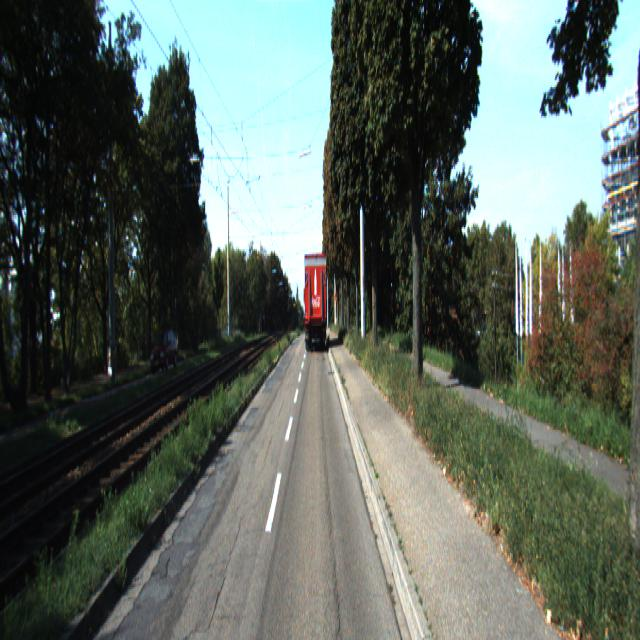Car: (302, 249, 327, 352), (149, 330, 180, 378)
